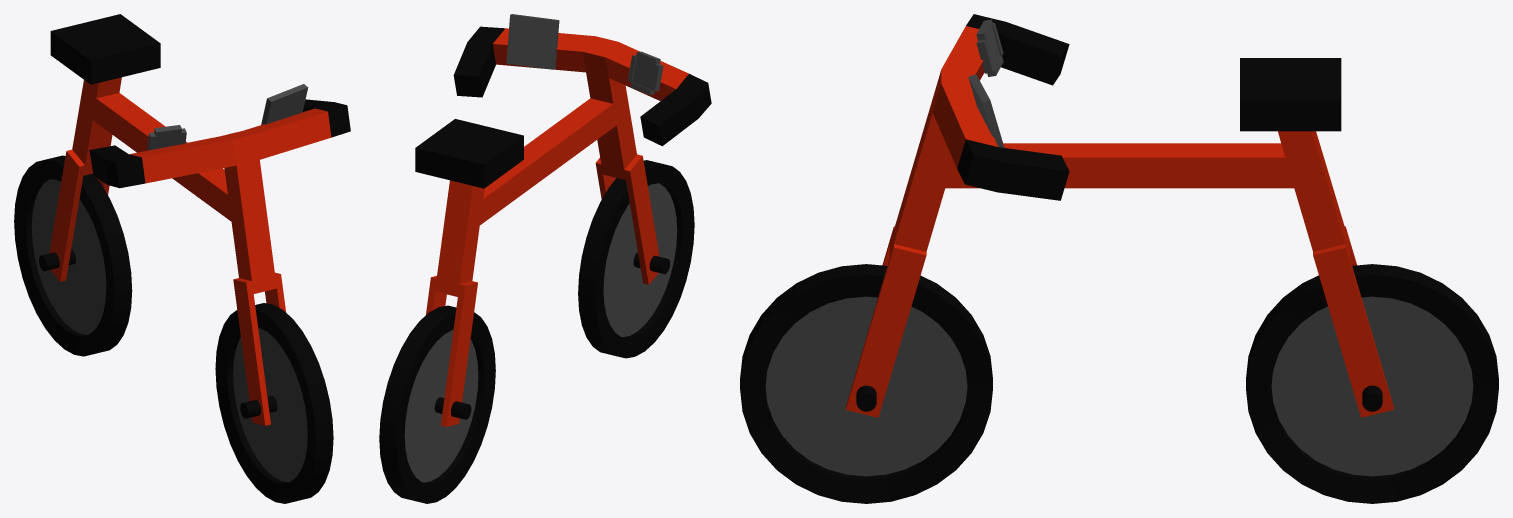
The model's file is FietsieV2.fbx.
3 renders of one model, left to right at view 1: azimuth 30°, elevation 25°; view 2: azimuth 150°, elevation 25°; view 3: azimuth 270°, elevation 25°, orthographic. The views are drawn at different scales.
Visible parts, largest first — view 1: Fietsie, Fietsie.001, Fietsie.002; view 2: Fietsie, Fietsie.001, Fietsie.002; view 3: Fietsie, Fietsie.002, Fietsie.001.
Boxes of the visible parts, x1,y1,x2,y2 form: Fietsie: (14, 14, 350, 503); Fietsie.001: (261, 84, 308, 124); Fietsie.002: (147, 125, 186, 150); Fietsie: (379, 26, 711, 503); Fietsie.001: (506, 14, 559, 69); Fietsie.002: (627, 51, 663, 94); Fietsie: (740, 14, 1498, 503); Fietsie.002: (976, 19, 1003, 76); Fietsie.001: (968, 74, 1004, 147).
Bounding box in the file's own units: 398 × 585 × 900.
